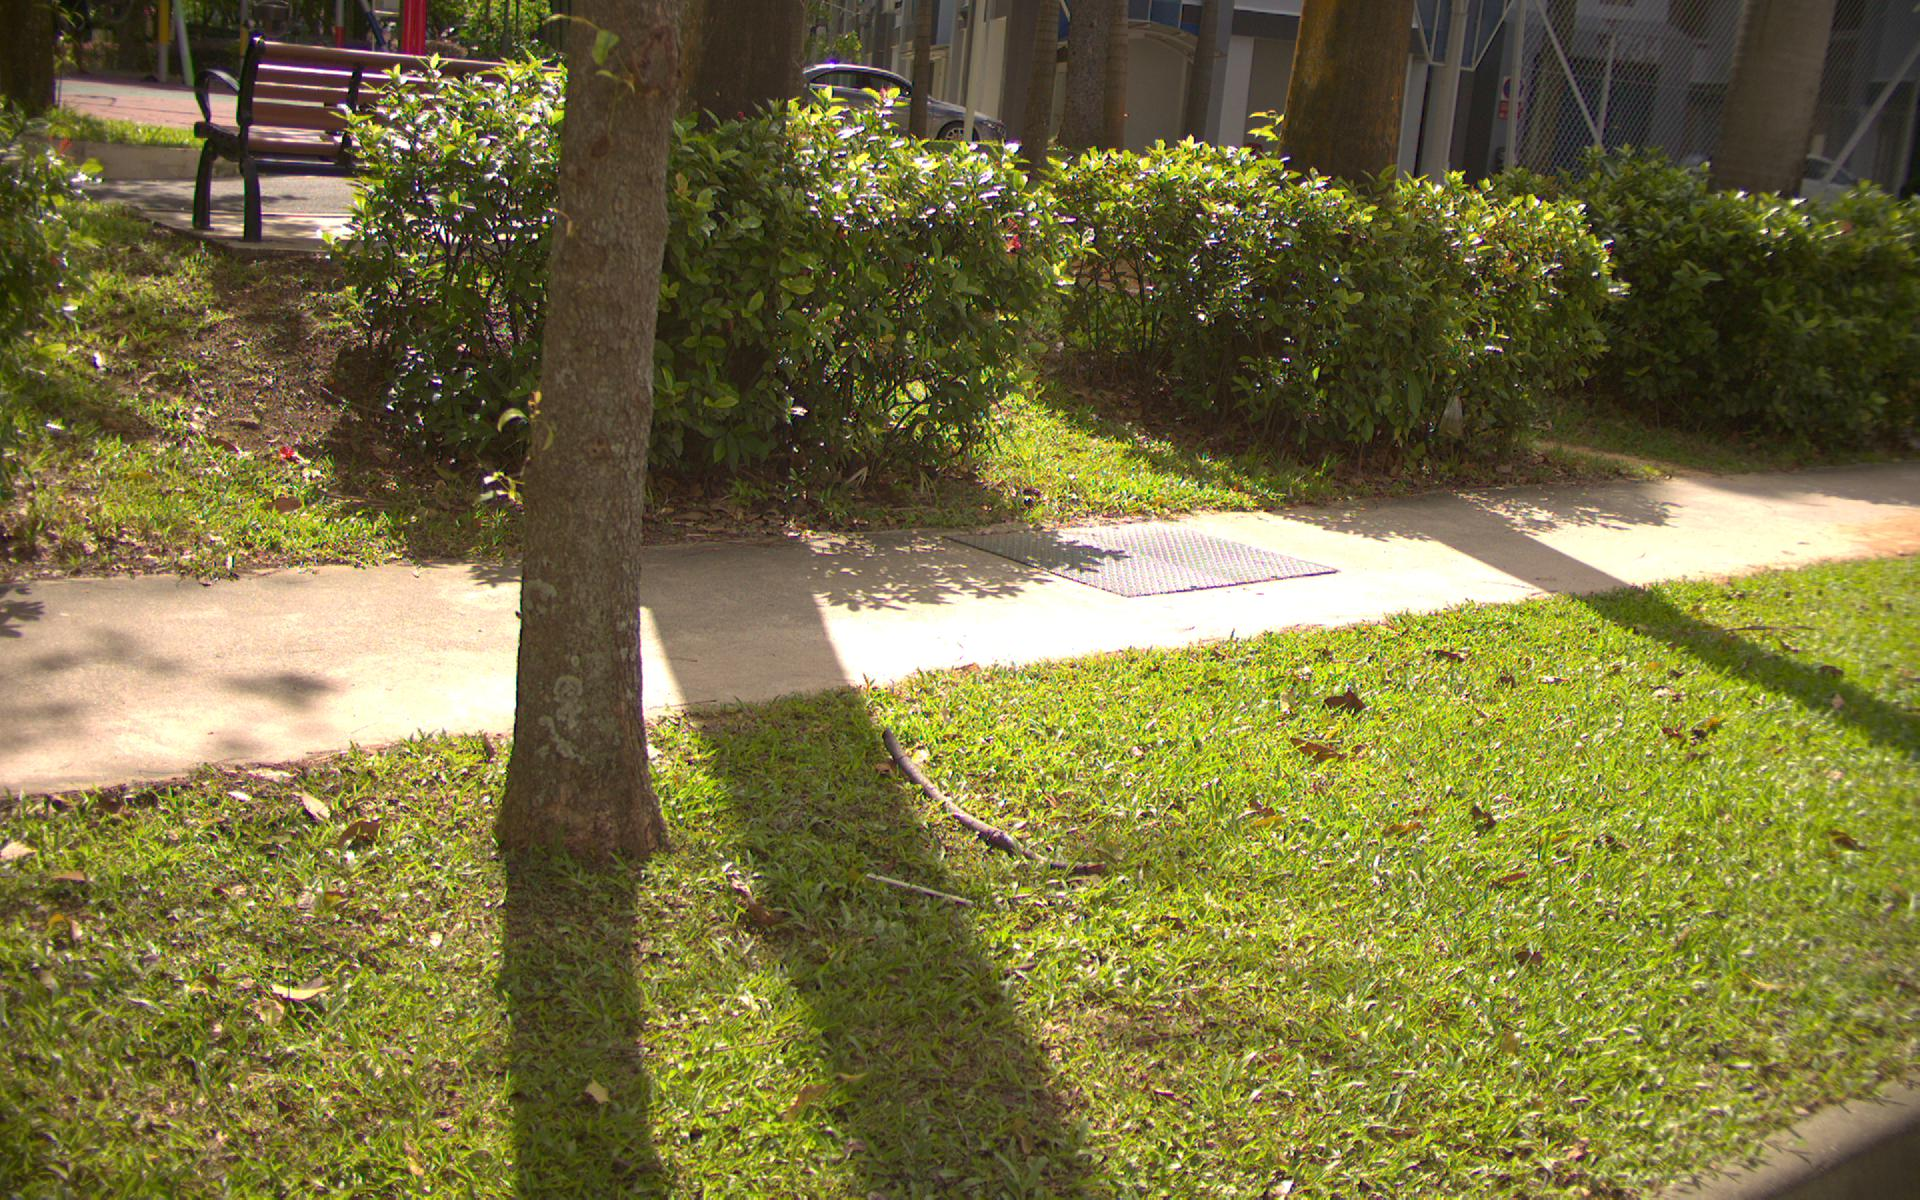road_turf_low: (25, 563, 1910, 1190)
